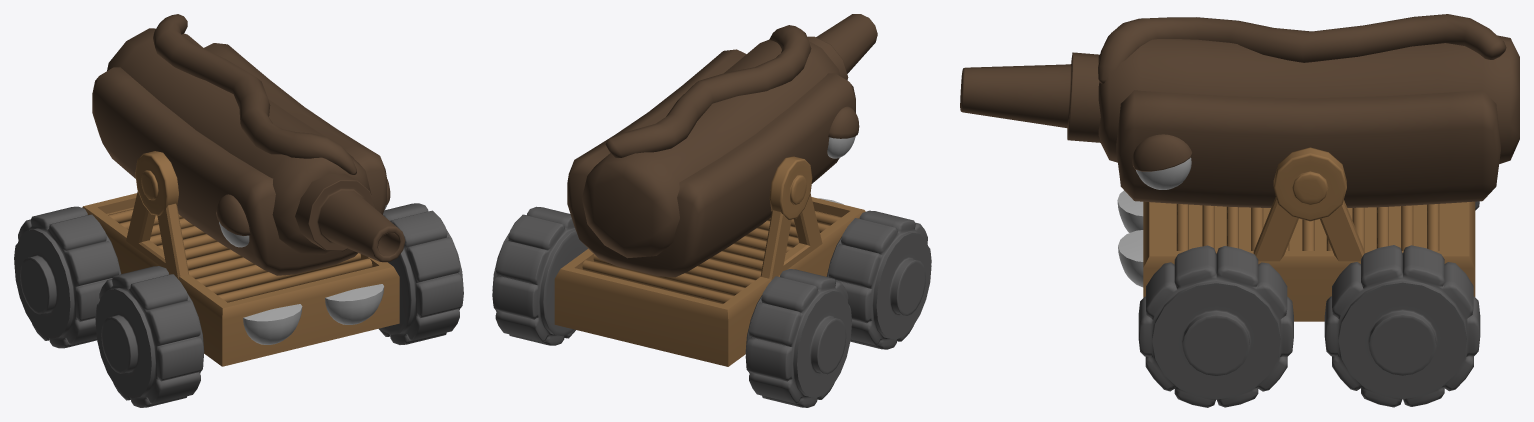
The model's file is First Upgrade Hotdog.fbx.
The picture shows the model from 3 angles, left to right: view 1: azimuth 30°, elevation 25°; view 2: azimuth 150°, elevation 25°; view 3: azimuth 270°, elevation 25°; orthographic projection. The views are drawn at different scales.
Visible parts, largest first — view 1: polySurface32, pCylinder5, BOLT_UVED1, GRILL_PIECE_UVED10, GRILL_PIECE_UVED9, GRILL_PIECE_UVED8, GRILL_PIECE_UVED7, GRILL_PIECE_UVED6, GRILL_PIECE_UVED2; view 2: polySurface32, pCylinder5, BOLT_UVED1, GRILL_PIECE_UVED4, GRILL_PIECE_UVED5, GRILL_PIECE_UVED3, GRILL_PIECE_UVED, GRILL_PIECE_UVED1, polySurface31, GRILL_PIECE_UVED2; view 3: polySurface32, pCylinder5, BOLT_UVED1, polySurface30, GRILL_PIECE_UVED10, GRILL_PIECE_UVED4, GRILL_PIECE_UVED5, GRILL_PIECE_UVED9, GRILL_PIECE_UVED8, GRILL_PIECE_UVED3.
Boxes of the visible parts, x1=… form: polySurface32: x1=92, y1=14, x2=405, y2=275; pCylinder5: x1=14, y1=203, x2=463, y2=407; BOLT_UVED1: x1=82, y1=151, x2=399, y2=366; GRILL_PIECE_UVED10: x1=217, y1=258, x2=372, y2=302; GRILL_PIECE_UVED9: x1=206, y1=253, x2=360, y2=294; GRILL_PIECE_UVED8: x1=195, y1=264, x2=267, y2=286; GRILL_PIECE_UVED7: x1=188, y1=257, x2=254, y2=278; GRILL_PIECE_UVED6: x1=186, y1=249, x2=242, y2=270; GRILL_PIECE_UVED2: x1=185, y1=241, x2=229, y2=259; polySurface32: x1=567, y1=14, x2=877, y2=277; pCylinder5: x1=492, y1=206, x2=931, y2=407; BOLT_UVED1: x1=554, y1=156, x2=865, y2=366; GRILL_PIECE_UVED4: x1=582, y1=260, x2=733, y2=303; GRILL_PIECE_UVED5: x1=593, y1=254, x2=744, y2=295; GRILL_PIECE_UVED3: x1=685, y1=266, x2=755, y2=287; GRILL_PIECE_UVED: x1=698, y1=259, x2=761, y2=279; GRILL_PIECE_UVED1: x1=709, y1=251, x2=763, y2=271; polySurface31: x1=827, y1=136, x2=855, y2=158; GRILL_PIECE_UVED2: x1=722, y1=243, x2=764, y2=260; polySurface32: x1=960, y1=14, x2=1519, y2=207; pCylinder5: x1=1138, y1=201, x2=1480, y2=407; BOLT_UVED1: x1=1117, y1=147, x2=1475, y2=321; polySurface30: x1=1136, y1=157, x2=1191, y2=189; GRILL_PIECE_UVED10: x1=1176, y1=204, x2=1188, y2=250; GRILL_PIECE_UVED4: x1=1427, y1=204, x2=1439, y2=250; GRILL_PIECE_UVED5: x1=1401, y1=205, x2=1413, y2=250; GRILL_PIECE_UVED9: x1=1202, y1=205, x2=1214, y2=248; GRILL_PIECE_UVED8: x1=1226, y1=206, x2=1238, y2=248; GRILL_PIECE_UVED3: x1=1376, y1=207, x2=1388, y2=248.
Size of the model in its own units: 20.68 by 15.99 by 26.72.
